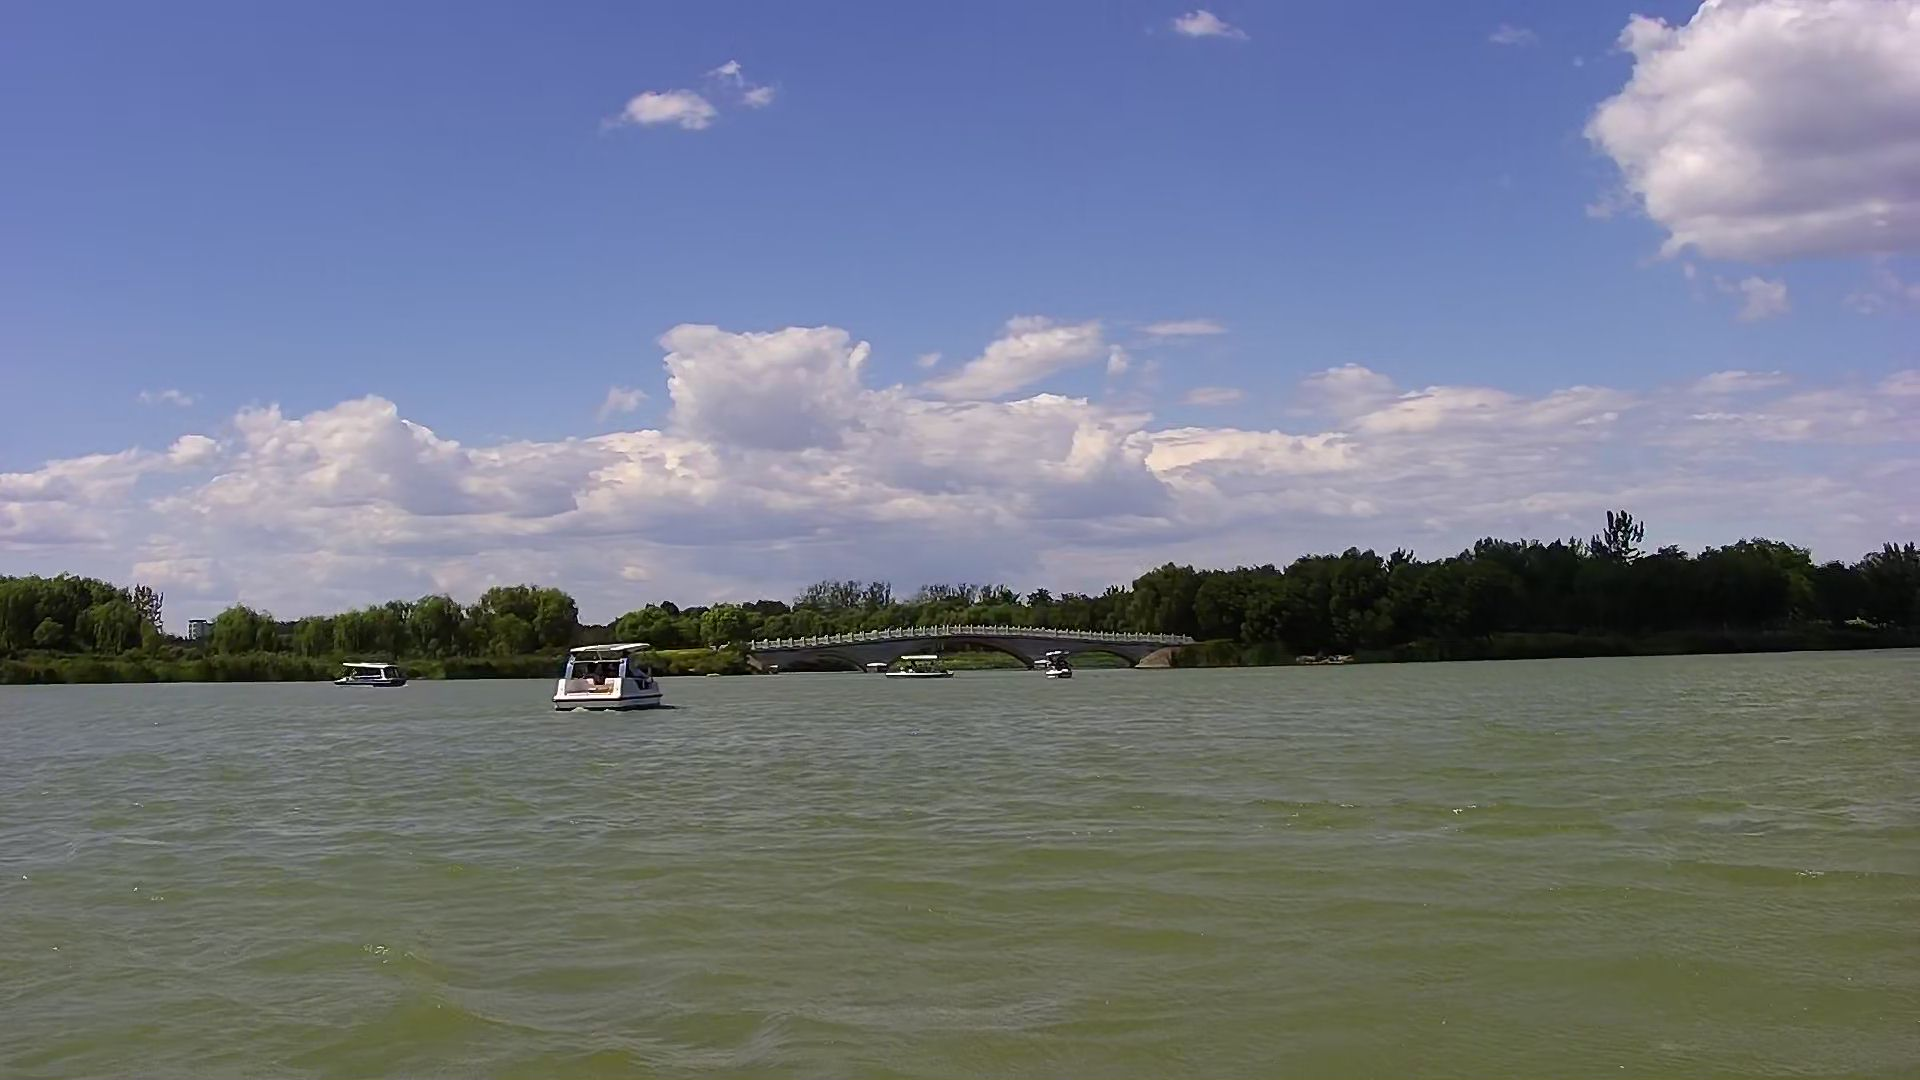boat: (542, 628, 682, 702), (328, 653, 407, 688), (886, 651, 959, 683)
bridge: (756, 611, 1162, 659)
